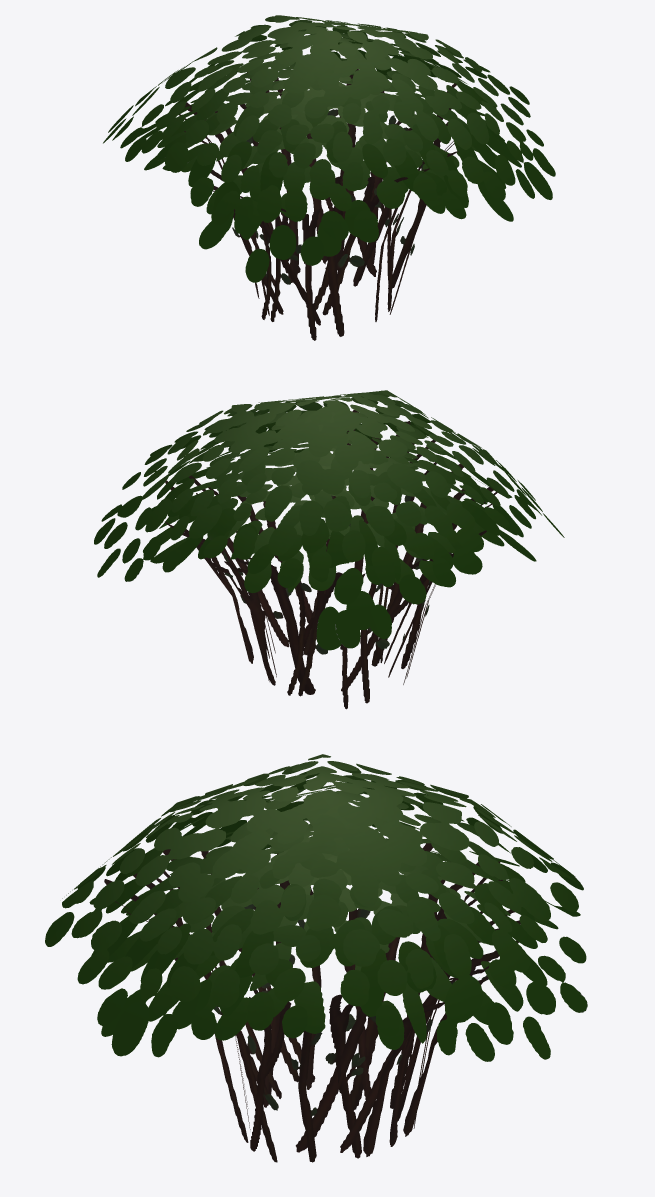
Rendered from INSTANCE_BUSH.glb.
3 renders of one model, top to bottom at view 1: azimuth 30°, elevation 25°; view 2: azimuth 150°, elevation 25°; view 3: azimuth 270°, elevation 25°, orthographic. The views are drawn at different scales.
Parts seen in each view (by area): view 1: GRASS; view 2: GRASS; view 3: GRASS.
Part boxes in pixels (<box>): GRASS: <box>103,15,555,340</box>; GRASS: <box>94,390,564,709</box>; GRASS: <box>45,754,587,1162</box>.
Bounding box in the file's own units: 0.5721 × 0.3741 × 0.5719.
1 material, 1 textured.
